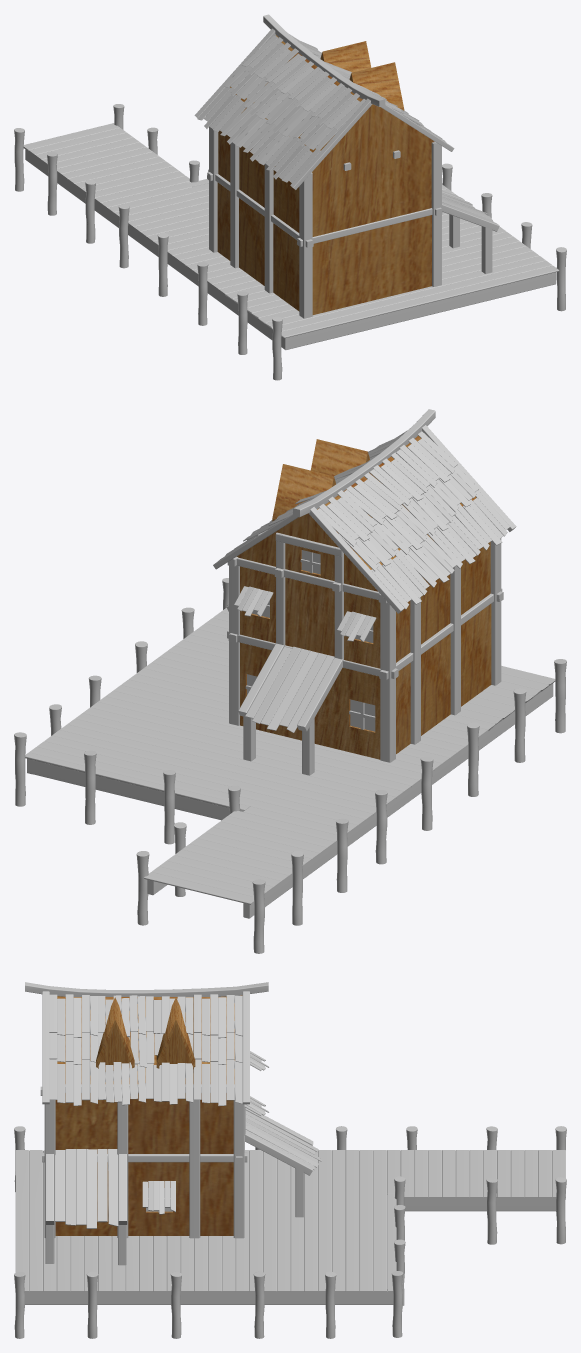
Rendered from BeachFactory2.fbx.
3 views of the same model, one above another, from view 1: azimuth 30°, elevation 25°; view 2: azimuth 150°, elevation 25°; view 3: azimuth 270°, elevation 25° (orthographic). The views are drawn at different scales.
Visible parts, largest first — view 1: polySurface191, pCube130, pCube119, pCube106, pCube14, polySurface4, pCube13, pCube27, polySurface53, polySurface41, polySurface73, polySurface85 (+26 smaller); view 2: polySurface191, pCube130, pCube119, pCube106, pCube57, pCube6, polySurface4, pCube37, polySurface41, polySurface53, pCube27, polySurface85 (+34 smaller); view 3: polySurface191, pCube130, pCube119, pCube106, pCube58, polySurface9, polySurface17, polySurface51, pCube27, polySurface39, polySurface75, polySurface15 (+25 smaller).
Part boxes in pixels (bbox=[...]): polySurface191: bbox=[23, 123, 559, 338]; pCube130: bbox=[218, 35, 434, 236]; pCube119: bbox=[217, 182, 431, 314]; pCube106: bbox=[25, 149, 556, 350]; pCube14: bbox=[299, 172, 312, 318]; polySurface4: bbox=[194, 28, 372, 189]; pCube13: bbox=[431, 142, 441, 286]; pCube27: bbox=[263, 14, 385, 106]; polySurface53: bbox=[242, 35, 298, 78]; polySurface41: bbox=[311, 85, 365, 129]; polySurface73: bbox=[266, 137, 320, 182]; polySurface85: bbox=[197, 87, 249, 132]; polySurface191: bbox=[25, 608, 555, 904]; pCube130: bbox=[237, 436, 490, 668]; pCube119: bbox=[240, 604, 491, 759]; pCube106: bbox=[27, 683, 553, 918]; pCube57: bbox=[245, 645, 334, 732]; pCube6: bbox=[380, 602, 395, 762]; polySurface4: bbox=[309, 425, 516, 613]; pCube37: bbox=[276, 532, 343, 659]; polySurface41: bbox=[396, 431, 457, 487]; polySurface53: bbox=[317, 490, 377, 546]; pCube27: bbox=[293, 409, 435, 517]; polySurface85: bbox=[371, 549, 429, 609]; polySurface191: bbox=[15, 1150, 565, 1292]; pCube130: bbox=[55, 995, 242, 1153]; pCube119: bbox=[55, 1162, 233, 1235]; pCube106: bbox=[25, 1198, 555, 1304]; pCube58: bbox=[55, 1149, 118, 1228]; polySurface9: bbox=[193, 1059, 242, 1106]; polySurface17: bbox=[49, 1059, 97, 1105]; polySurface51: bbox=[193, 994, 242, 1038]; pCube27: bbox=[25, 982, 268, 996]; polySurface39: bbox=[49, 994, 97, 1037]; polySurface75: bbox=[98, 1061, 146, 1105]; polySurface15: bbox=[146, 1062, 193, 1104].
Bounding box in the file's own units: 24.57 × 20.03 × 38.19.
